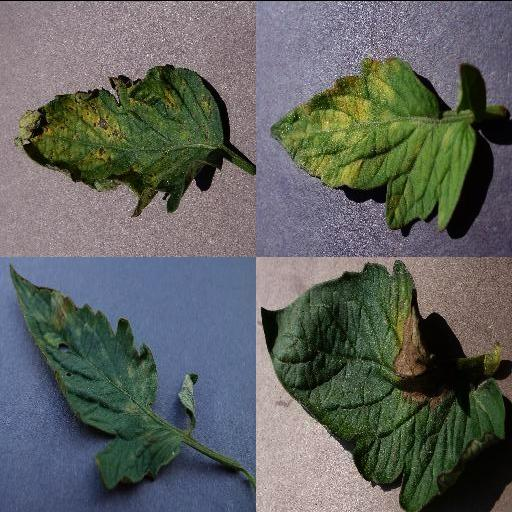Late Blight: (258, 257, 508, 512)
Leaf Mold: (7, 262, 183, 486), (269, 56, 475, 230)
Septoria: (14, 63, 226, 216)
